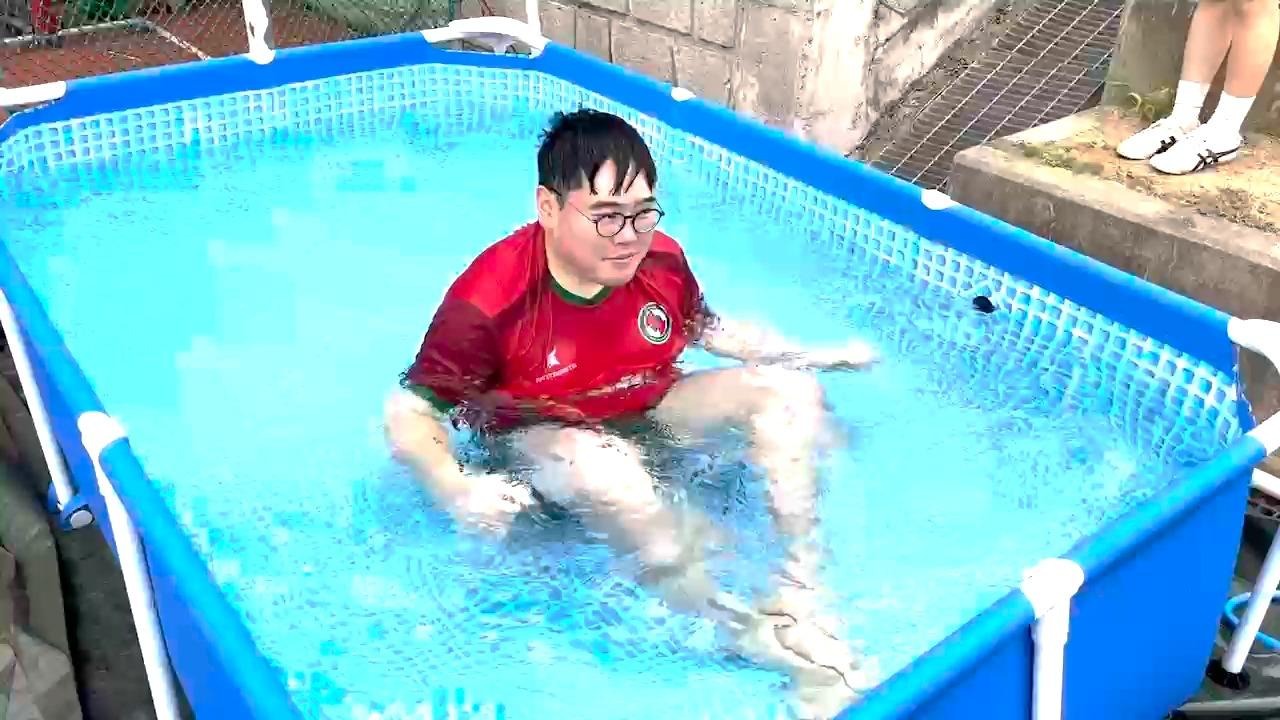Swimming: (356, 40, 916, 678)
